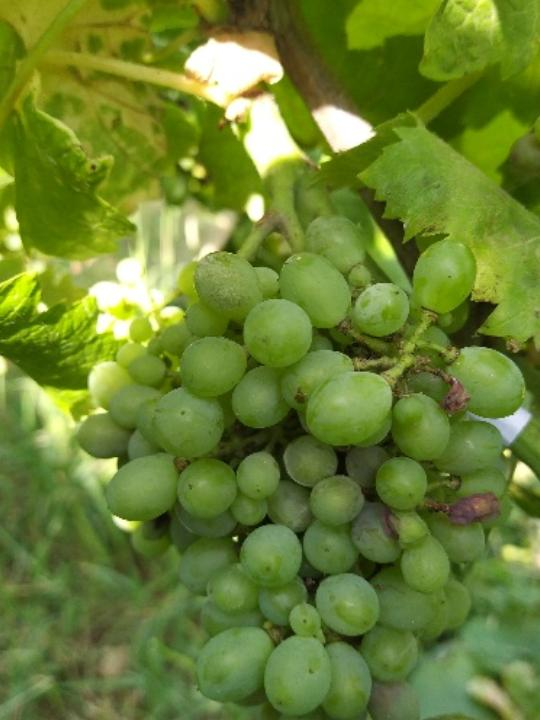grape: (67, 206, 525, 720)
